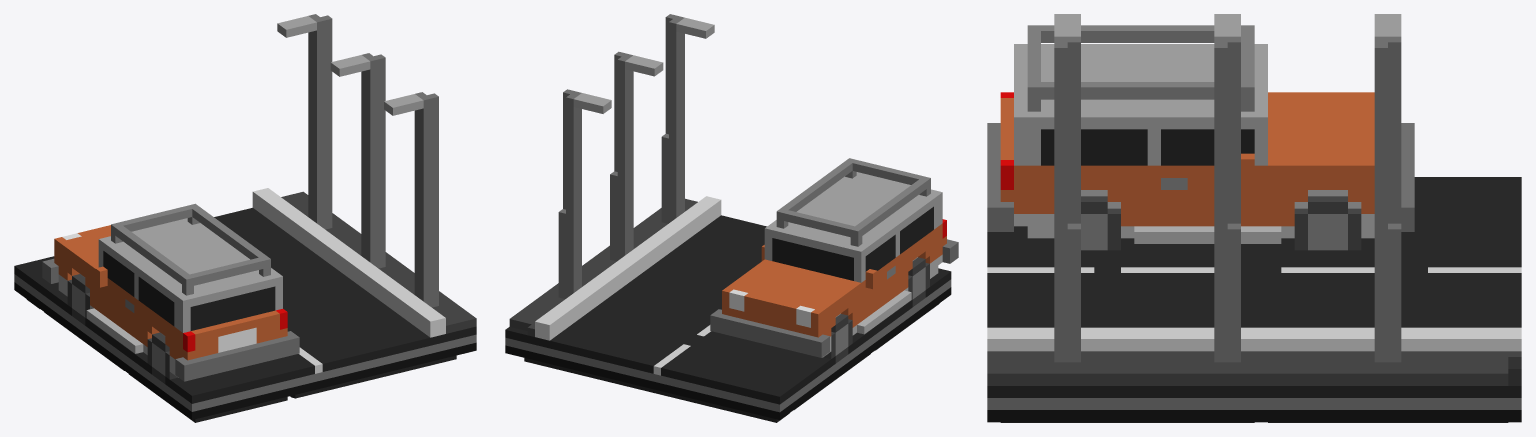
The model's file is car3.obj.
3 views of the same model, side by side, from view 1: azimuth 30°, elevation 25°; view 2: azimuth 150°, elevation 25°; view 3: azimuth 270°, elevation 25° (orthographic). The views are drawn at different scales.
Parts seen in each view (by area): view 1: car3; view 2: car3; view 3: car3.
Boxes of the visible parts, left/top/right/bottom form: car3: left=14, top=14, right=476, bottom=422; car3: left=505, top=14, right=958, bottom=422; car3: left=987, top=14, right=1521, bottom=422.
Bounding box in the file's own units: 3.8 × 3.8 × 4.
1 material, 1 textured.
